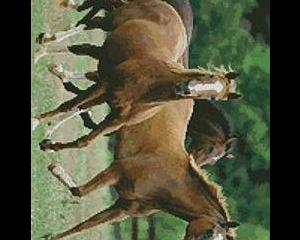horse: (38, 61, 240, 240), (31, 0, 241, 155)
